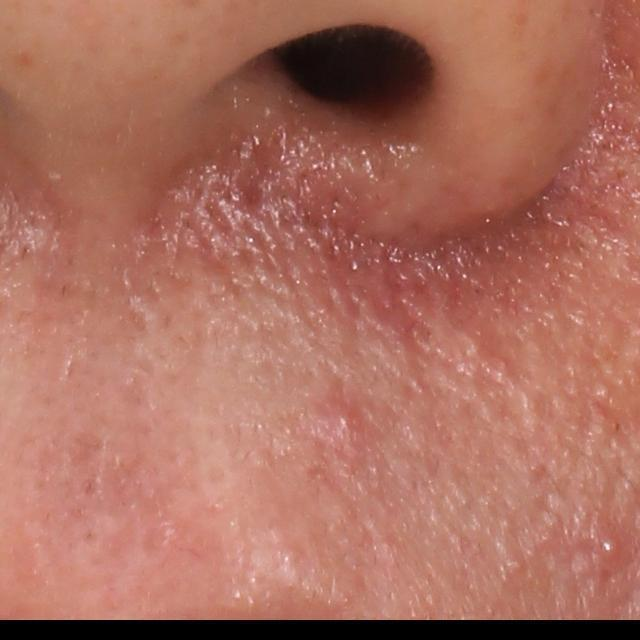comedo: (508, 558, 529, 583)
papule: (331, 402, 366, 438)
